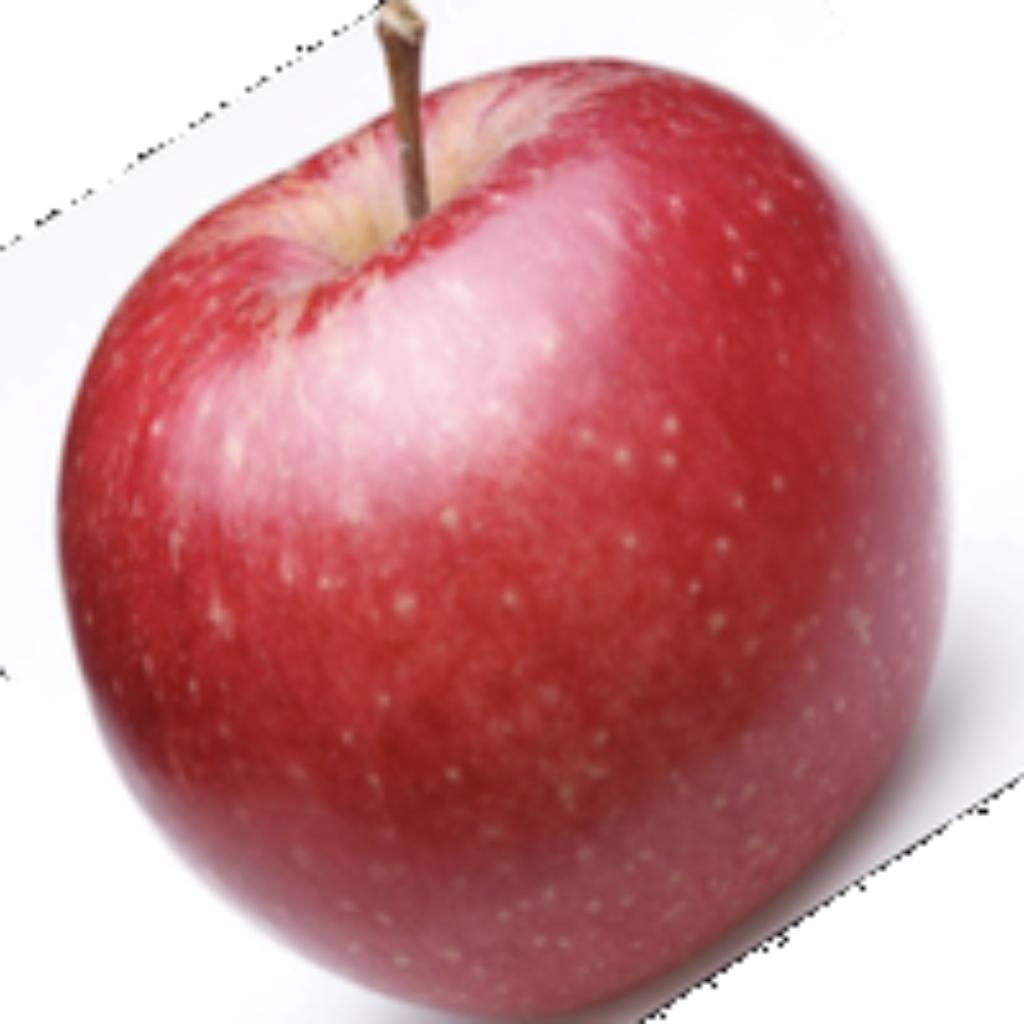apple: (46, 0, 1019, 1019)
